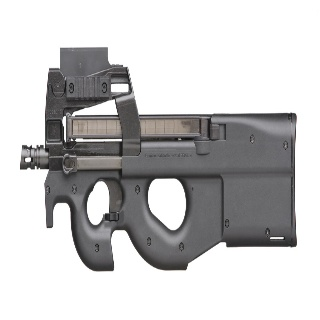rifle: (16, 43, 300, 272)
